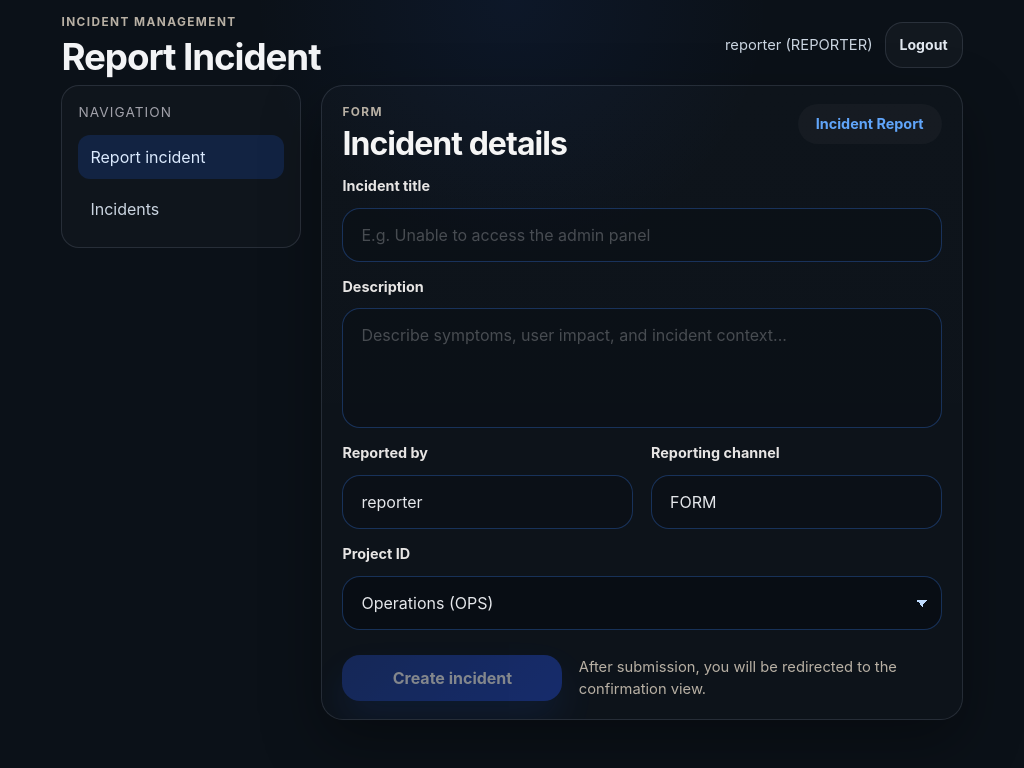
Test case: incident workflows › submits an incident and shows confirmation
In the field with id "title": (642, 235) [342,208,941,262], type "Cannot access admin panel"
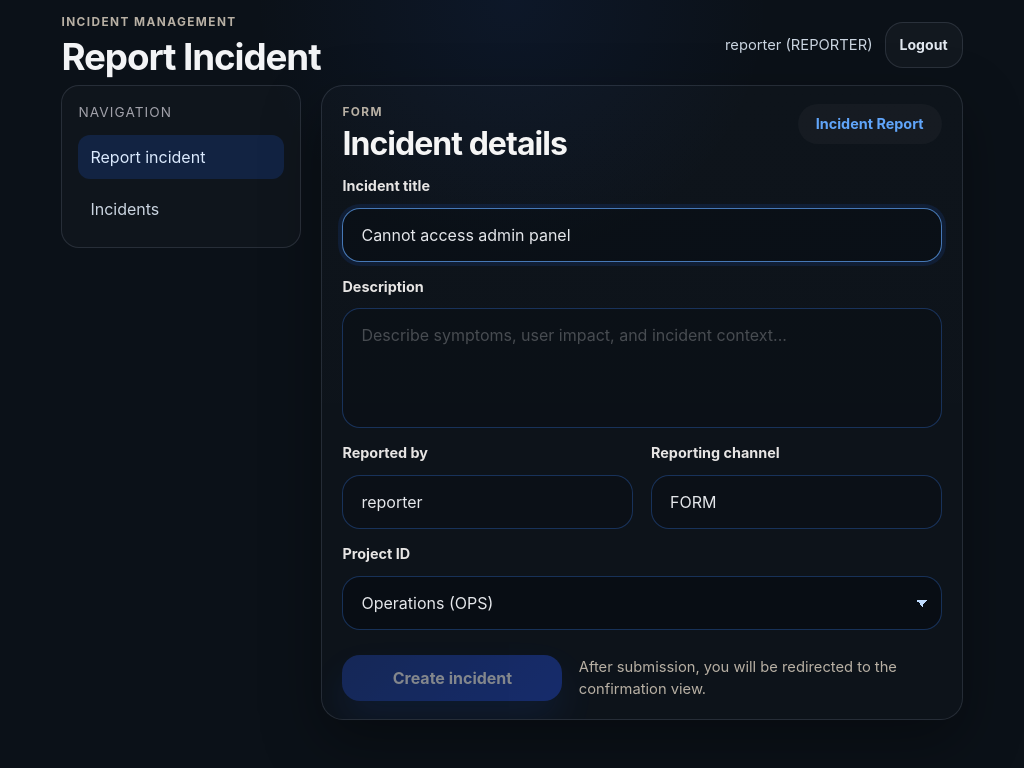
In the text box with id "description": (642, 368) [342,308,941,428], type "Users receive a 503 response."
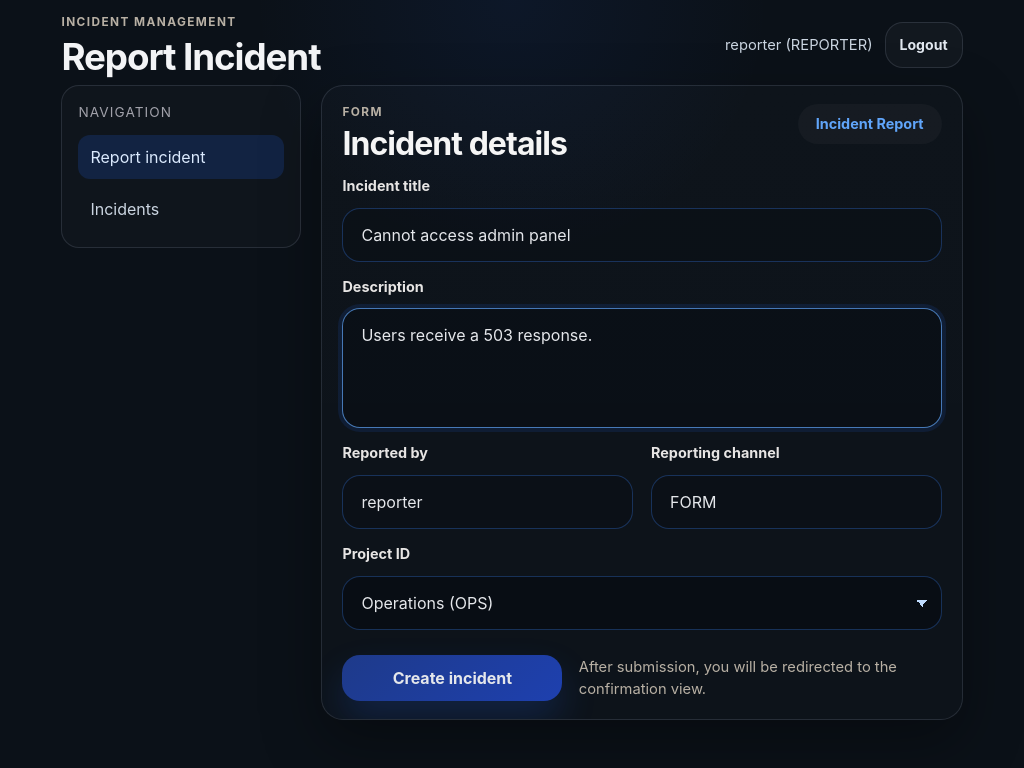
Select "Operations (OPS)" in the dropdown labelled "Project ID": (642, 603) [342,576,941,630]
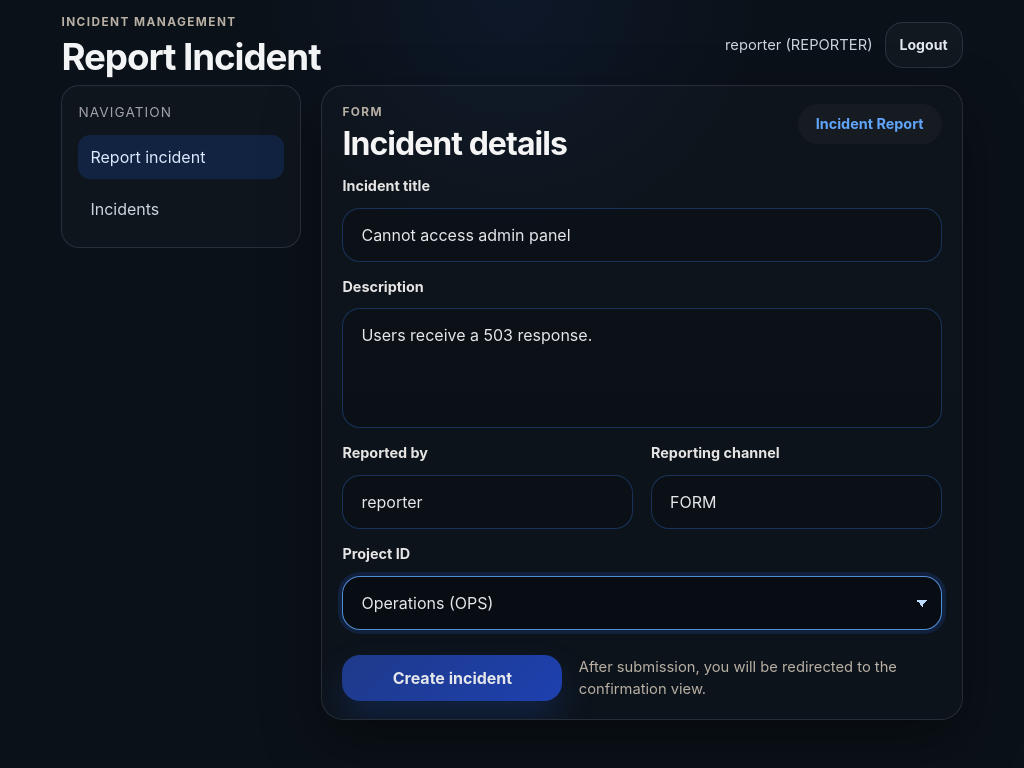
Click the button "Create incident": (452, 678) [342,655,562,701]
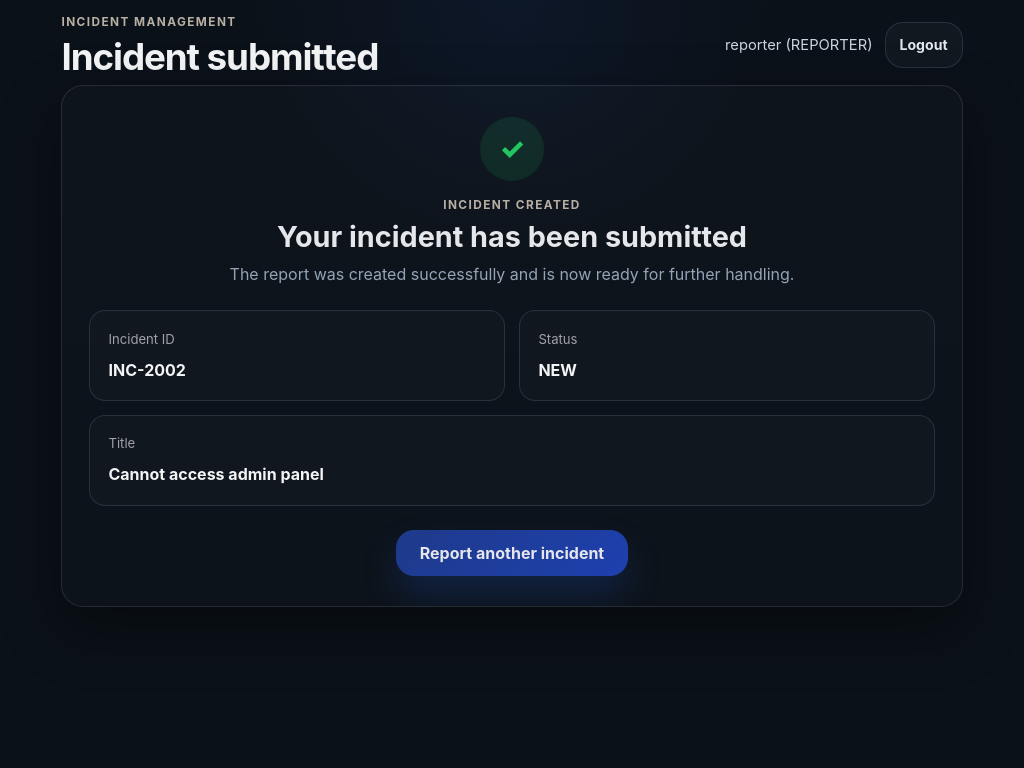
Expected: the text "INC-2002" is shown, [108,360,186,380]
Expected: the text "Cannot access admin panel" is shown, [108,464,324,484]
Expected: the text "NEW" is shown, [538,360,577,380]
